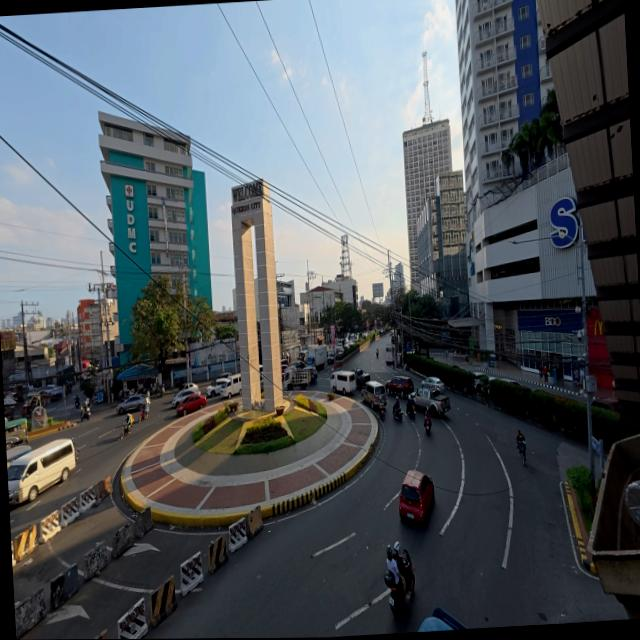car: (396, 467, 435, 527), (170, 386, 206, 417), (116, 394, 150, 418)
vans: (6, 438, 78, 508)
